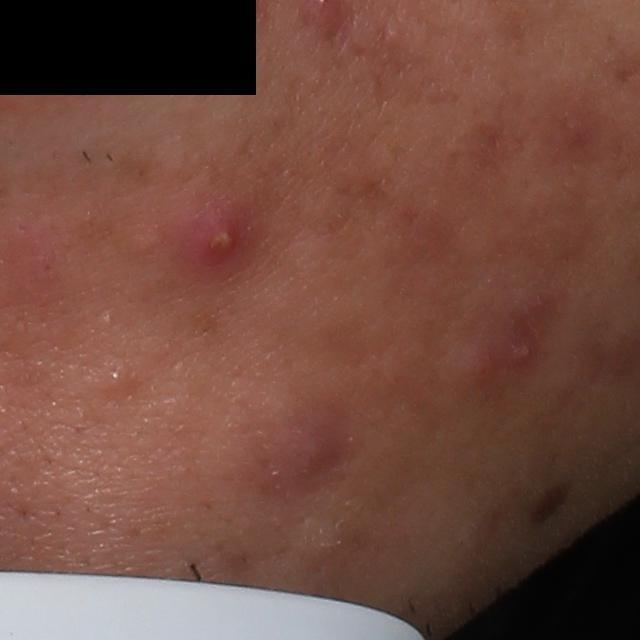comedo: (105, 367, 132, 394)
nevus: (531, 479, 574, 525)
papule: (448, 340, 508, 393)
pustule: (183, 203, 258, 279)
